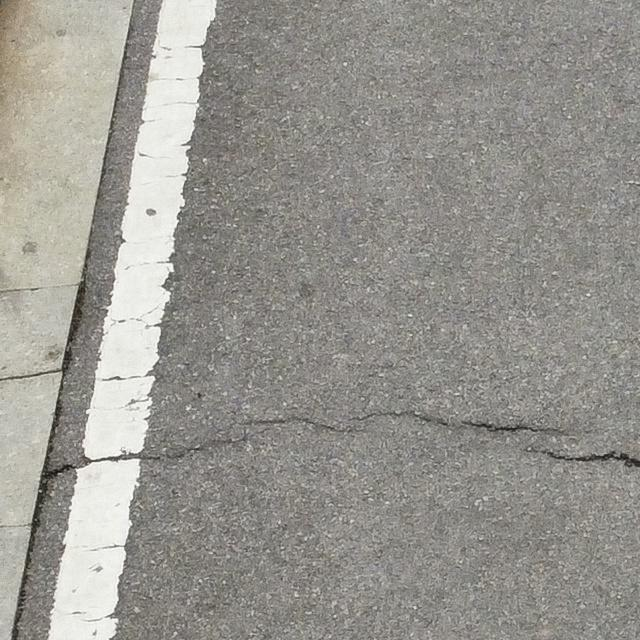TransverseCrack: (42, 410, 567, 479), (525, 445, 640, 469)
